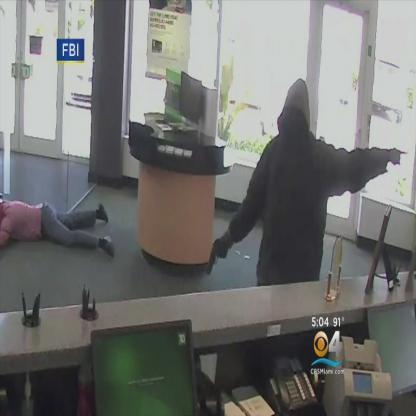pistols: (203, 235, 232, 278)
